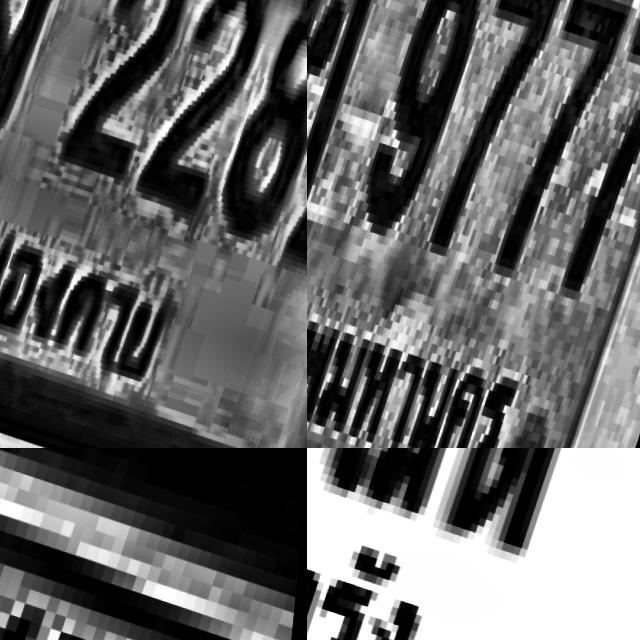license-plate: (307, 0, 640, 448), (0, 0, 307, 448), (307, 448, 640, 640), (0, 448, 307, 640)
